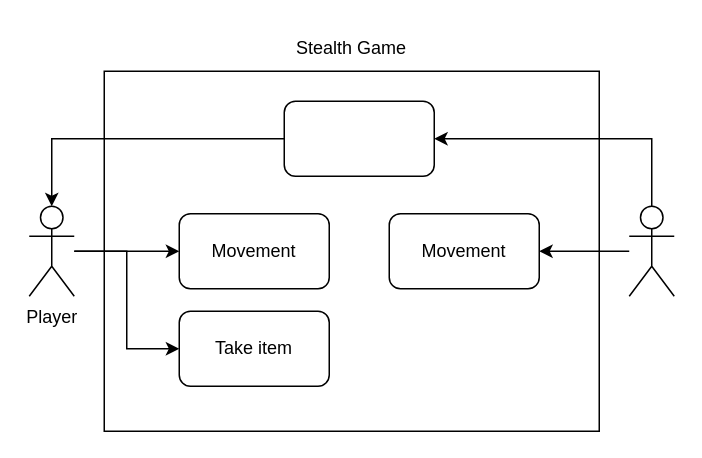
The diagram is 702 pixels wide and 458 high, and some of its shapes have lost their labels. Here are the shapes that lost their labels. From the top down, the centre of each, then its label:
At point 358,138: "Chase".
At point 651,250: "Guard".
